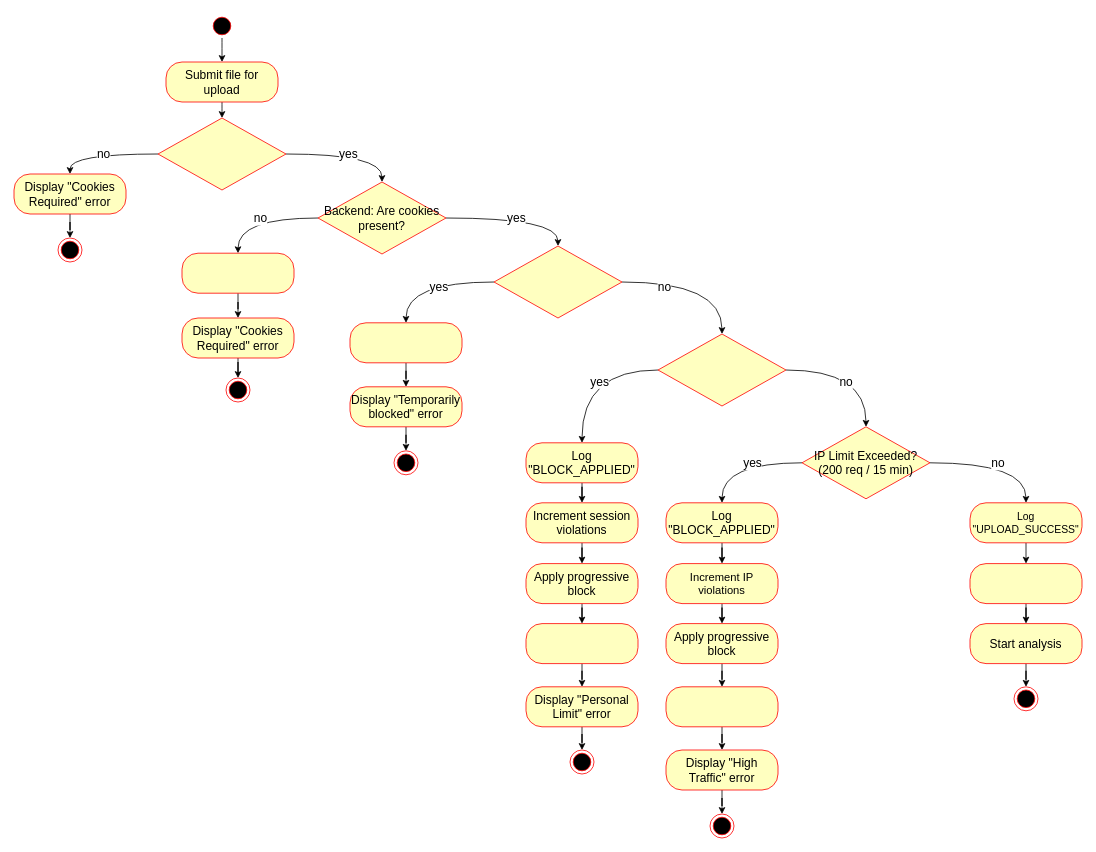
This 1096x852 diagram has some shape labels left out. The shapes that lost their labels are listed below. From the top down, each one's box as (x1, y1, x2, y2) in pixels, then its label:
(157, 117, 286, 190): Frontend: Are cookies enabled?
(181, 252, 294, 293): Log "NO_COOKIES"
(493, 245, 622, 318): Progressive block active?
(349, 322, 462, 363): Log "BLOCKED_REQUEST"
(657, 333, 786, 406): Session limit exceeded? (10 req / 15 min)
(969, 563, 1082, 604): Save file
(525, 623, 638, 664): Log "RATE_LIMIT_SESSION"
(665, 686, 778, 727): Log "RATE_LIMIT_IP"
